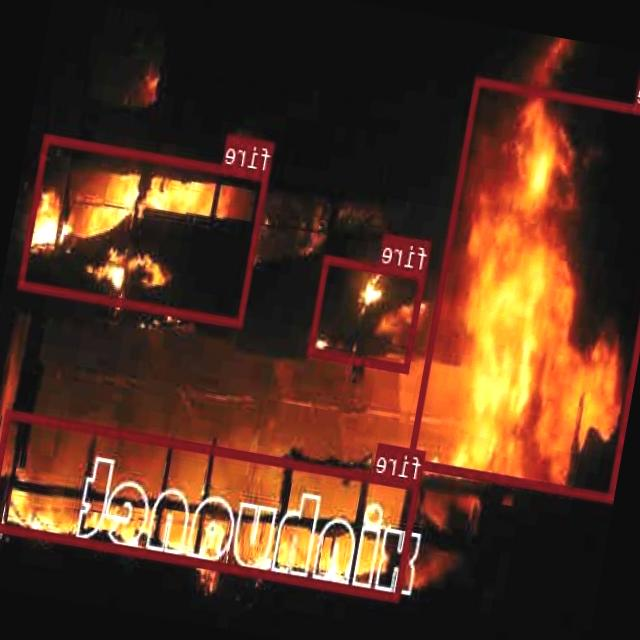fire: (407, 75, 640, 500), (0, 409, 420, 600), (18, 133, 271, 327), (308, 254, 427, 370)
